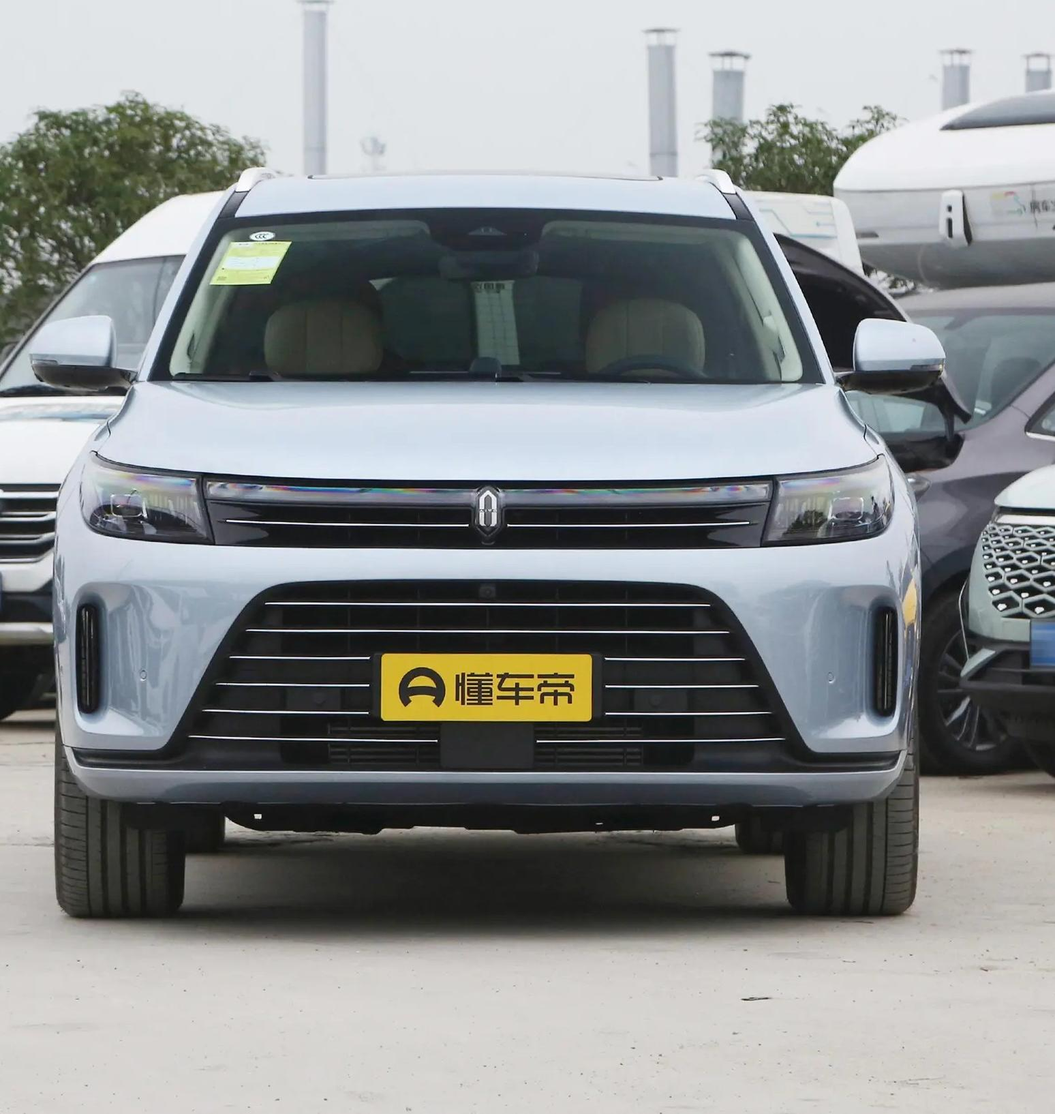AITO: (480, 490, 497, 532)
